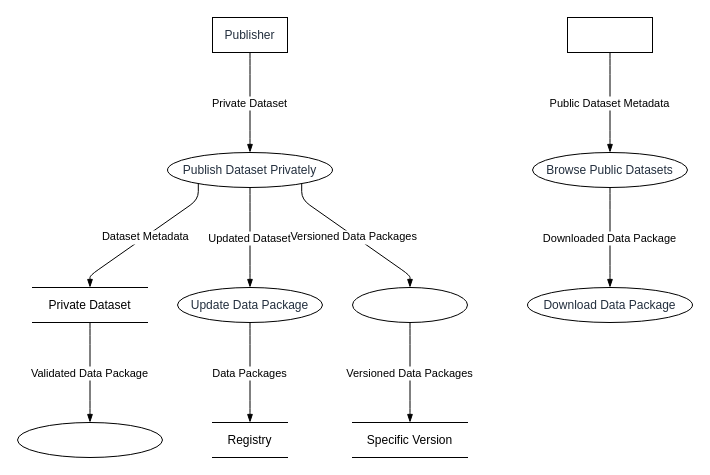
The diagram is 710 pixels wide and 475 high, and some of its shapes have lost their labels. Each missing label, with the box of its shape:
Consumers: (566, 16, 652, 52)
Validate Data Package: (16, 422, 162, 458)
Version Control: (352, 286, 468, 322)
